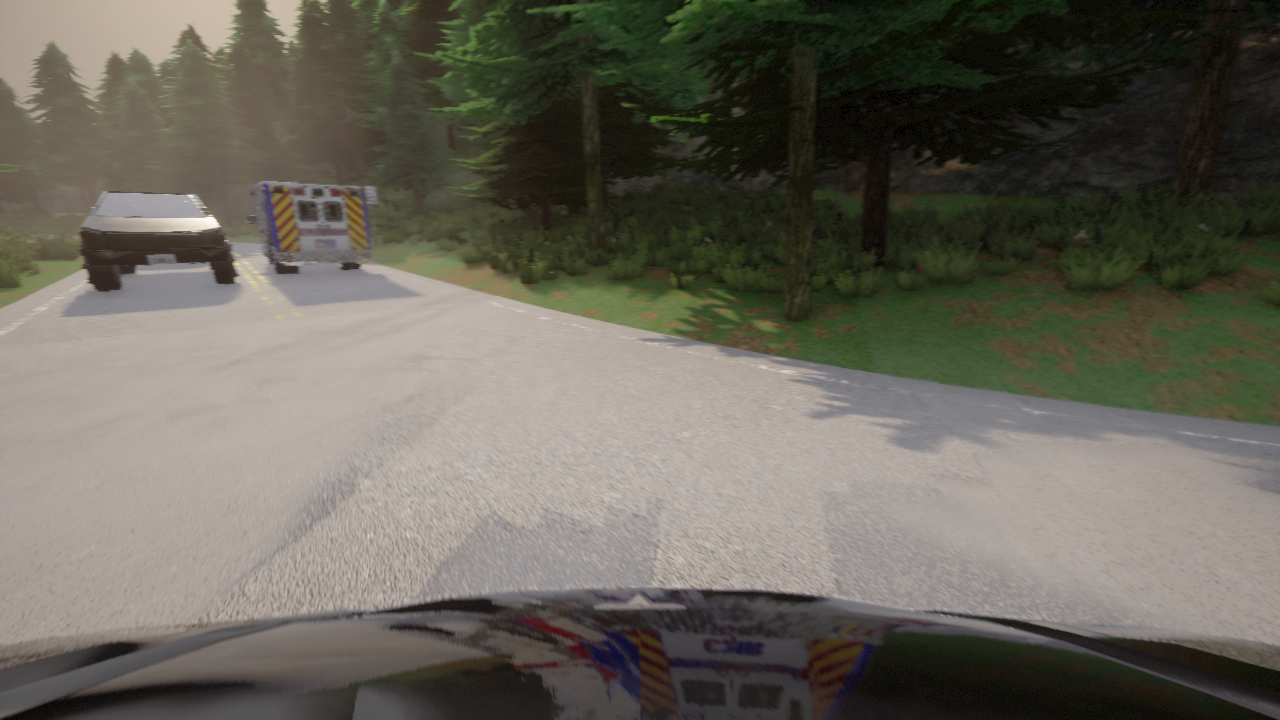cyclist: (0, 588, 1279, 719), (78, 191, 239, 290), (247, 181, 375, 273)
